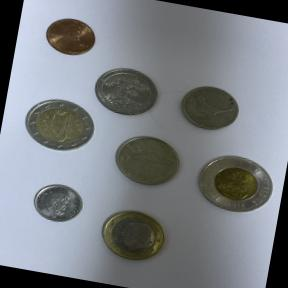coin: (184, 141, 285, 226), (87, 196, 178, 270), (101, 122, 190, 196), (13, 91, 100, 162), (87, 60, 168, 124), (32, 6, 108, 68), (24, 175, 91, 232)
